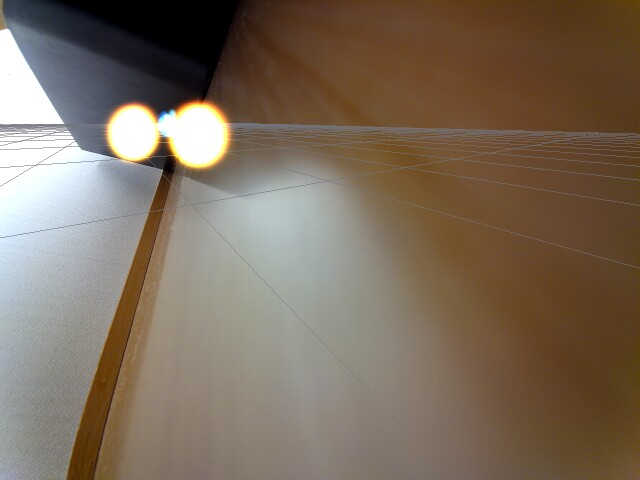firebig: (171, 96, 232, 170)
